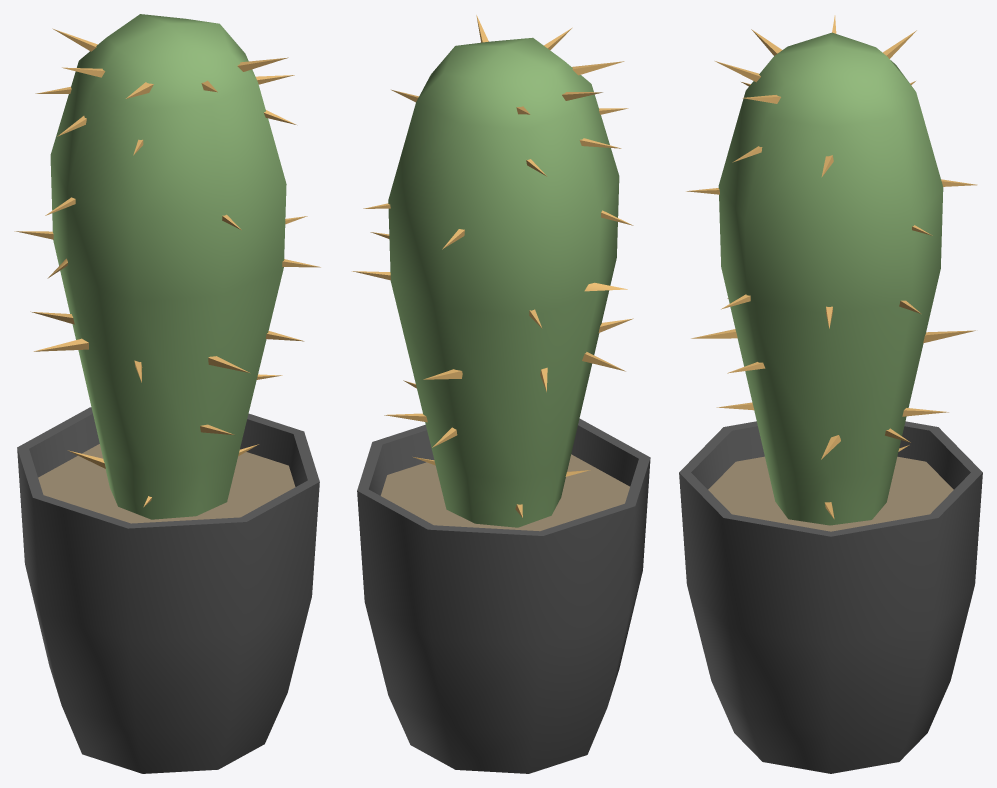
The model's file is houseplant_3.glb.
3 renders of one model, left to right at view 1: azimuth 30°, elevation 25°; view 2: azimuth 150°, elevation 25°; view 3: azimuth 270°, elevation 25°, orthographic. The views are drawn at different scales.
Visible parts, largest first — view 1: Houseplant_3; view 2: Houseplant_3; view 3: Houseplant_3.
Boxes of the visible parts, x1=… form: Houseplant_3: x1=14, y1=14, x2=320, y2=773; Houseplant_3: x1=352, y1=15, x2=650, y2=773; Houseplant_3: x1=679, y1=15, x2=982, y2=773.
Bounding box in the file's own units: 0.3426 × 0.8449 × 0.3382.
